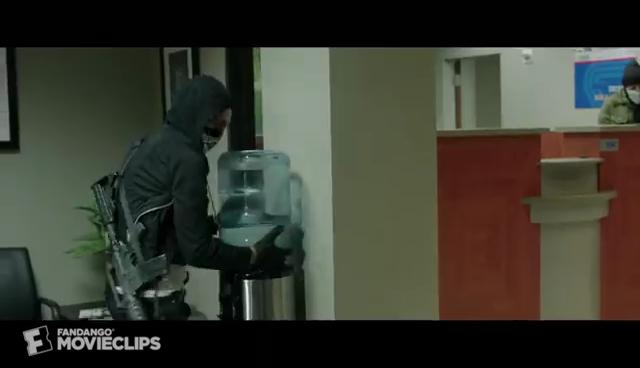criminal: (90, 76, 293, 319)
weapon: (91, 173, 170, 319)
